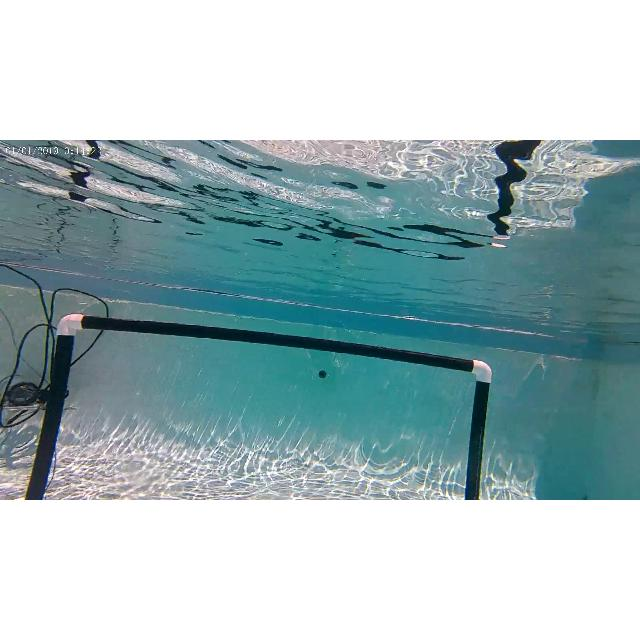prequal gate: (26, 312, 492, 500)
prequal gate leg l: (24, 307, 92, 497)
prequal gate leg r: (452, 346, 494, 500)
